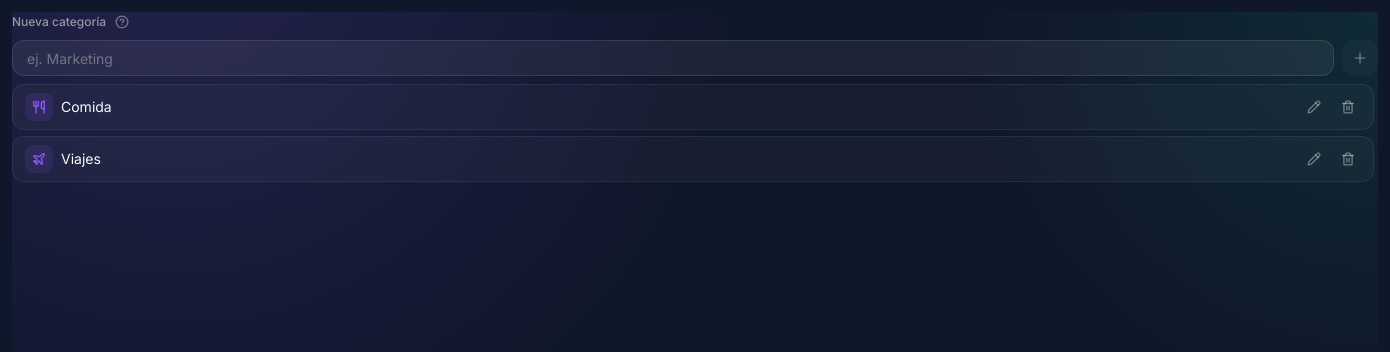
Test case: Módulos: alta y errores 409 › agregar una categoría duplicada muestra el mensaje del 409
In the field labelled "Nueva categoría": x=673, y=58 x1=12 y1=40 x2=1334 y2=76, type "Comida"
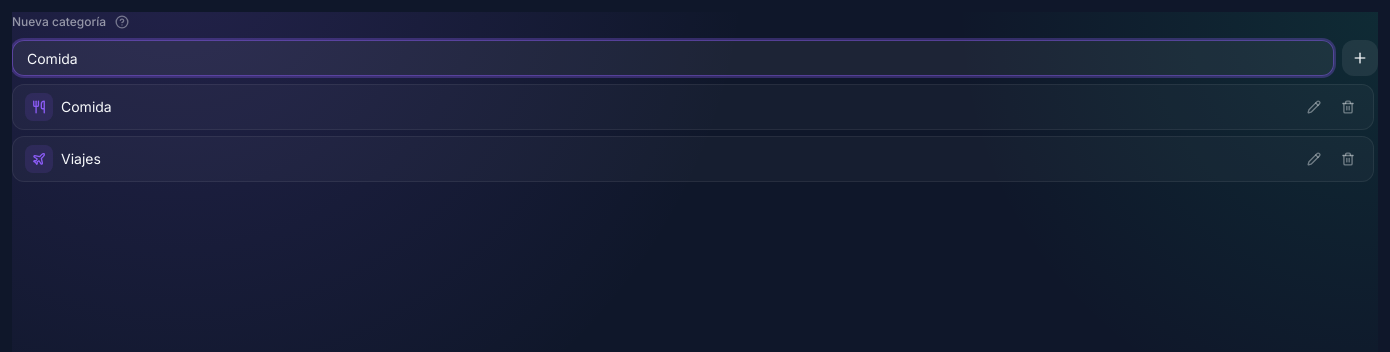
Click the button named "Agregar categoría": x=1360, y=58 x1=1342 y1=40 x2=1378 y2=76
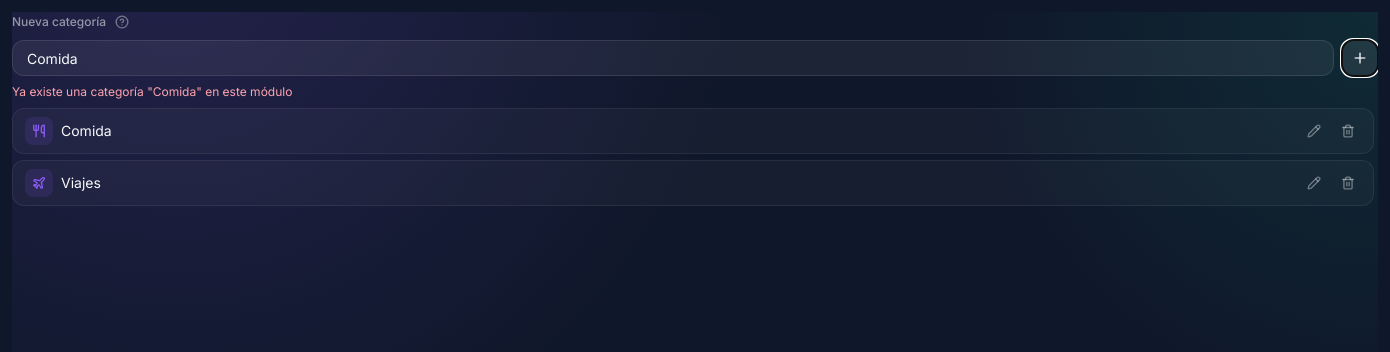
Check: the message reads "Ya existe una categoría \"Comida\" en este módulo", box x1=12 y1=84 x2=292 y2=99
